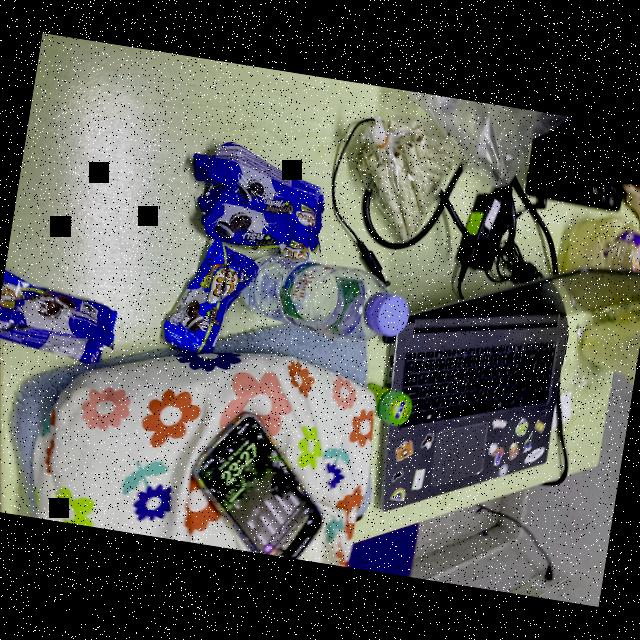plastic_bag: (391, 90, 578, 199), (553, 209, 640, 294), (573, 291, 640, 380)
plastic_bottle: (230, 246, 417, 350)
plastic_bottle_cap: (361, 288, 412, 338)
plastic_cup: (593, 226, 640, 281)
snack_bag: (339, 112, 466, 250), (178, 134, 338, 226), (156, 234, 264, 367), (0, 270, 124, 372), (178, 182, 328, 257)
